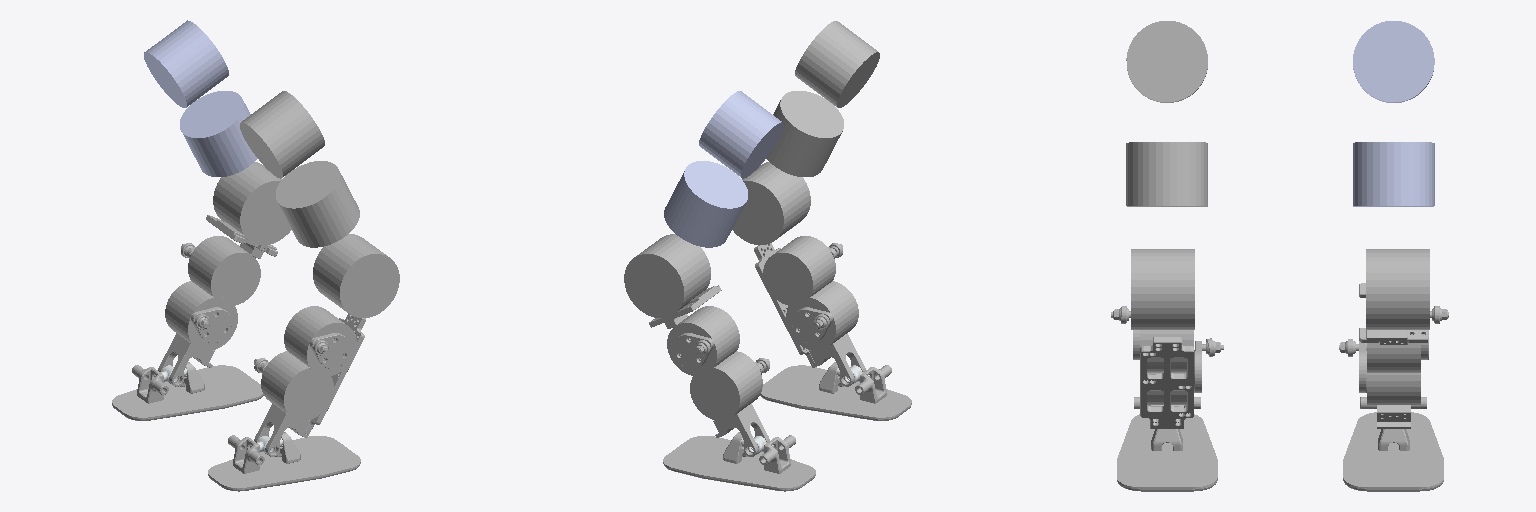
robot.urdf — hi_12dof_250108_4:
<?xml version="1.0" encoding="utf-8"?>
<!-- This URDF was automatically created by SolidWorks to URDF Exporter! Originally created by [author] ([email redacted]) 
     Commit Version: 1.6.0-4-g7f85cfe  Build Version: 1.6.7995.38578
     For more information, please see http://wiki.ros.org/sw_urdf_exporter -->
<robot name="hi_12dof_250108_4">
  <mujoco>
		<compiler meshdir="package://hi_12dof_250108_4/meshes/" balanceinertia="true" discardvisual="false" />
	</mujoco>
  <link name="base_link">
    <inertial>
      <origin xyz="-0.000396294940036325 0.00072167777466269 0.0259267147144543" rpy="0 0 0" />
      <mass value="3.44488468561069" />
      <inertia ixx="0.00350552408207438" ixy="2.05960321176568E-06" ixz="2.70272861151567E-06" iyy="0.0021759508141979" iyz="-7.08948842430887E-07" izz="0.00327349909695201" />
    </inertial>
    <visual>
      <origin xyz="0 0 0" rpy="0 0 0" />
      <geometry>
        <mesh filename="package://hi_12dof_250108_4/meshes/base_link.STL" />
      </geometry>
      <material name="">
        <color rgba="0.792156862745098 0.819607843137255 0.933333333333333 1" />
      </material>
    </visual>
    <collision>
      <origin xyz="0 0 0" rpy="0 0 0" />
      <geometry>
        <mesh filename="package://hi_12dof_250108_4/meshes/base_link.STL" />
      </geometry>
    </collision>
  </link>
  <link name="l_hip_pitch_link">
    <inertial>
      <origin xyz="-0.00211707609765584 0.0379208443965739 -2.34648317470887E-07" rpy="0 0 0" />
      <mass value="0.332464399423281" />
      <inertia ixx="0.00021656124124781" ixy="1.96809453863197E-09" ixz="7.0063109491016E-11" iyy="0.000174778048421951" iyz="-2.59733455543991E-09" izz="0.000174896056211152" />
    </inertial>
    <visual>
      <origin xyz="0 0 0" rpy="0 0 0" />
      <geometry>
        <mesh filename="package://hi_12dof_250108_4/meshes/l_hip_pitch_link.STL" />
      </geometry>
      <material name="">
        <color rgba="0.792156862745098 0.819607843137255 0.933333333333333 1" />
      </material>
    </visual>
    <collision>
      <origin xyz="0 0 0" rpy="0 0 0" />
      <geometry>
        <mesh filename="package://hi_12dof_250108_4/meshes/l_hip_pitch_link.STL" />
      </geometry>
    </collision>
  </link>
  <joint name="l_hip_pitch_joint" type="revolute">
    <origin xyz="0 0.0575 -0.141" rpy="0 -0.45 0" />
    <parent link="base_link" />
    <child link="l_hip_pitch_link" />
    <axis xyz="0 1 0" />
    <limit lower="-3" upper="3" effort="21" velocity="4" />
  </joint>
  <link name="l_hip_roll_link">
    <inertial>
      <origin xyz="-0.0277896329749871 1.55799144418989E-09 -0.0625867046028161" rpy="0 0 0" />
      <mass value="0.45372685123116" />
      <inertia ixx="0.000310242329755238" ixy="-1.63339400965531E-11" ixz="-1.85567882829277E-06" iyy="0.000281938258568152" iyz="-3.58056546016109E-11" izz="0.00022487154980978" />
    </inertial>
    <visual>
      <origin xyz="0 0 0" rpy="0 0 0" />
      <geometry>
        <mesh filename="package://hi_12dof_250108_4/meshes/l_hip_roll_link.STL" />
      </geometry>
      <material name="">
        <color rgba="0.792156862745098 0.819607843137255 0.933333333333333 1" />
      </material>
    </visual>
    <collision>
      <origin xyz="0 0 0" rpy="0 0 0" />
      <geometry>
        <mesh filename="package://hi_12dof_250108_4/meshes/l_hip_roll_link.STL" />
      </geometry>
    </collision>
  </link>
  <joint name="l_hip_roll_joint" type="revolute">
    <origin xyz="0.02875 0.042 0" rpy="0 0 0" />
    <parent link="l_hip_pitch_link" />
    <child link="l_hip_roll_link" />
    <axis xyz="1 0 0" />
    <limit lower="-3" upper="3" effort="21" velocity="4" />
  </joint>
  <link name="l_thigh_link">
    <inertial>
      <origin xyz="-2.47119438421487E-08 -0.00195775191362317 -0.0384354110884601" rpy="0 0 0" />
      <mass value="0.216480798098479" />
      <inertia ixx="0.000126086396930698" ixy="2.19767433569625E-12" ixz="-2.48244612072097E-10" iyy="0.000152534480065572" iyz="-1.11920718948652E-06" izz="6.72242935494028E-05" />
    </inertial>
    <visual>
      <origin xyz="0 0 0" rpy="0 0 0" />
      <geometry>
        <box size="0.0001 0.0001 0.0001" />
        <!-- <mesh filename="package://hi_12dof_250108_4/meshes/l_thigh_link.STL" /> -->
      </geometry>
      <material name="">
        <color rgba="0.752941176470588 0.752941176470588 0.752941176470588 1" />
      </material>
    </visual>
    <collision>
      <origin xyz="0 0 0" rpy="0 0 0" />
      <geometry>
        <box size="0.0001 0.0001 0.0001" />
        <!-- <mesh filename="package://hi_12dof_250108_4/meshes/l_thigh_link.STL" /> -->
      </geometry>
    </collision>
  </link>
  <joint name="l_thigh_joint" type="revolute">
    <origin xyz="-0.02875 0 -0.127" rpy="0 0 0" />
    <parent link="l_hip_roll_link" />
    <child link="l_thigh_link" />
    <axis xyz="0 0 1" />
    <limit lower="-3" upper="3" effort="21" velocity="4" />
  </joint>
  <link name="l_calf_link">
    <inertial>
      <origin xyz="0.002084208593299 -0.000708512792595609 -0.0666364858990925" rpy="0 0 0" />
      <mass value="0.798186590427918" />
      <inertia ixx="0.000394052774047747" ixy="-1.94635963229571E-07" ixz="5.09736810284007E-07" iyy="0.000436355973055267" iyz="-2.05470524117594E-06" izz="0.00032700401941796" />
    </inertial>
    <visual>
      <origin xyz="0 0 0" rpy="0 0 0" />
      <geometry>
        <mesh filename="package://hi_12dof_250108_4/meshes/l_calf_link.STL" />
      </geometry>
      <material name="">
        <color rgba="0.752941176470588 0.752941176470588 0.752941176470588 1" />
      </material>
    </visual>
    <collision>
      <origin xyz="0 0 0" rpy="0 0 0" />
      <geometry>
        <mesh filename="package://hi_12dof_250108_4/meshes/l_calf_link.STL" />
      </geometry>
    </collision>
  </link>
  <joint name="l_calf_joint" type="revolute">
    <origin xyz="0 0 -0.073" rpy="0 1. 0" />
    <parent link="l_thigh_link" />
    <child link="l_calf_link" />
    <axis xyz="0 1 0" />
    <limit lower="-3" upper="3" effort="21" velocity="4" />
  </joint>
  <link name="l_ankle_pitch_link">
    <inertial>
      <origin xyz="-9.12850747509381E-09 4.12927667059471E-09 4.39383196493282E-10" rpy="0 0 0" />
      <mass value="0.00892294107261778" />
      <inertia ixx="2.27074369978684E-07" ixy="5.24991382186059E-15" ixz="-9.53624130649719E-17" iyy="1.02185448397035E-06" iyz="1.9785933442948E-13" izz="9.9089537138096E-07" />
    </inertial>
    <visual>
      <origin xyz="0 0 0" rpy="0 0 0" />
      <geometry>
        <mesh filename="package://hi_12dof_250108_4/meshes/l_ankle_pitch_link.STL" />
      </geometry>
      <material name="">
        <color rgba="0.898039215686275 0.917647058823529 0.929411764705882 1" />
      </material>
    </visual>
    <collision>
      <origin xyz="0 0 0" rpy="0 0 0" />
      <geometry>
        <mesh filename="package://hi_12dof_250108_4/meshes/l_ankle_pitch_link.STL" />
      </geometry>
    </collision>
  </link>
  <joint name="l_ankle_pitch_joint" type="revolute">
    <origin xyz="0 0 -0.199999997760877" rpy="0 -0.55 0" />
    <parent link="l_calf_link" />
    <child link="l_ankle_pitch_link" />
    <axis xyz="0 1 0" />
    <limit lower="-3" upper="3" effort="21" velocity="4" />
  </joint>
  <link name="l_ankle_roll_link">
    <inertial>
      <origin xyz="0.0191469462734272 1.24410964637278E-06 -0.0235556687001754" rpy="0 0 0" />
      <mass value="0.408124172744667" />
      <inertia ixx="0.000214914616175803" ixy="1.40187762223554E-08" ixz="6.61054413733577E-08" iyy="0.000655689977785892" iyz="-1.31856124182802E-09" izz="0.000862874352432036" />
    </inertial>
    <visual>
      <origin xyz="0 0 0" rpy="0 0 0" />
      <geometry>
        <mesh filename="package://hi_12dof_250108_4/meshes/l_ankle_roll_link.STL" />
      </geometry>
      <material name="">
        <color rgba="0.752941176470588 0.752941176470588 0.752941176470588 1" />
      </material>
    </visual>
    <collision>
      <origin xyz="0 0 0" rpy="0 0 0" />
      <geometry>
        <mesh filename="package://hi_12dof_250108_4/meshes/l_ankle_roll_link.STL" />
      </geometry>
    </collision>
  </link>
  <joint name="l_ankle_roll_joint" type="revolute">
    <origin xyz="0 0 0" rpy="0 0 0" />
    <parent link="l_ankle_pitch_link" />
    <child link="l_ankle_roll_link" />
    <axis xyz="1 0 0" />
    <limit lower="-3" upper="3" effort="21" velocity="4" />
  </joint>
  <link name="r_hip_pitch_link">
    <inertial>
      <origin xyz="-0.00211707607184689 -0.0379180481609783 2.34669631504758E-07" rpy="0 0 0" />
      <mass value="0.332464399123945" />
      <inertia ixx="0.000216561240983143" ixy="-1.96809813185383E-09" ixz="-7.0068934838985E-11" iyy="0.000174778048243936" iyz="-2.59745901504191E-09" izz="0.000174896056124753" />
    </inertial>
    <visual>
      <origin xyz="0 0 0" rpy="0 0 0" />
      <geometry>
        <mesh filename="package://hi_12dof_250108_4/meshes/r_hip_pitch_link.STL" />
      </geometry>
      <material name="">
        <color rgba="0.752941176470588 0.752941176470588 0.752941176470588 1" />
      </material>
    </visual>
    <collision>
      <origin xyz="0 0 0" rpy="0 0 0" />
      <geometry>
        <mesh filename="package://hi_12dof_250108_4/meshes/r_hip_pitch_link.STL" />
      </geometry>
    </collision>
  </link>
  <joint name="r_hip_pitch_joint" type="revolute">
    <origin xyz="0 -0.0575 -0.141" rpy="0 -0.45 0" />
    <parent link="base_link" />
    <child link="r_hip_pitch_link" />
    <axis xyz="0 1 0" />
    <limit lower="-3" upper="3" effort="21" velocity="4" />
  </joint>
  <link name="r_hip_roll_link">
    <inertial>
      <origin xyz="-0.0277896329807857 -3.15155031359315E-06 -0.0625867046028169" rpy="0 0 0" />
      <mass value="0.453726851231109" />
      <inertia ixx="0.000310242329755245" ixy="-1.63339373450913E-11" ixz="-1.85567902517169E-06" iyy="0.000281938258568134" iyz="-3.58056712023289E-11" izz="0.000224871549809768" />
    </inertial>
    <visual>
      <origin xyz="0 0 0" rpy="0 0 0" />
      <geometry>
        <mesh filename="package://hi_12dof_250108_4/meshes/r_hip_roll_link.STL" />
      </geometry>
      <material name="">
        <color rgba="0.752941176470588 0.752941176470588 0.752941176470588 1" />
      </material>
    </visual>
    <collision>
      <origin xyz="0 0 0" rpy="0 0 0" />
      <geometry>
        <mesh filename="package://hi_12dof_250108_4/meshes/r_hip_roll_link.STL" />
      </geometry>
    </collision>
  </link>
  <joint name="r_hip_roll_joint" type="revolute">
    <origin xyz="0.0287500000000003 -0.0419959226882039 0" rpy="0 0 0" />
    <parent link="r_hip_pitch_link" />
    <child link="r_hip_roll_link" />
    <axis xyz="1 0 0" />
    <limit lower="-3" upper="3" effort="21" velocity="4" />
  </joint>
  <link name="r_thigh_link">
    <inertial>
      <origin xyz="2.47055361255605E-08 0.00195775191229149 -0.0384354110884844" rpy="0 0 0" />
      <mass value="0.216480798098292" />
      <inertia ixx="0.000126086396929227" ixy="2.19712782016265E-12" ixz="2.48224108944989E-10" iyy="0.000152534480062678" iyz="1.11920718849412E-06" izz="6.72242935479536E-05" />
    </inertial>
    <visual>
      <origin xyz="0 0 0" rpy="0 0 0" />
      <geometry>
        <box size="0.0001 0.0001 0.0001" />
        <!-- <mesh filename="package://hi_12dof_250108_4/meshes/r_thigh_link.STL" /> -->
      </geometry>
      <material name="">
        <color rgba="0.752941176470588 0.752941176470588 0.752941176470588 1" />
      </material>
    </visual>
    <collision>
      <origin xyz="0 0 0" rpy="0 0 0" />
      <geometry>
        <box size="0.0001 0.0001 0.0001" />
        <!-- <mesh filename="package://hi_12dof_250108_4/meshes/r_thigh_link.STL" /> -->
      </geometry>
    </collision>
  </link>
  <joint name="r_thigh_joint" type="revolute">
    <origin xyz="-0.02875 0 -0.127" rpy="0 0 0" />
    <parent link="r_hip_roll_link" />
    <child link="r_thigh_link" />
    <axis xyz="0 0 1" />
    <limit lower="-3" upper="3" effort="21" velocity="4" />
  </joint>
  <link name="r_calf_link">
    <inertial>
      <origin xyz="0.00210372630508033 0.000710487724927336 -0.0659600577317307" rpy="0 0 0" />
      <mass value="0.793906144344769" />
      <inertia ixx="0.000393935939110766" ixy="1.99394924160626E-07" ixz="5.05613076796903E-07" iyy="0.000436084295683318" iyz="2.09123775120312E-06" izz="0.000326763362646964" />
    </inertial>
    <visual>
      <origin xyz="0 0 0" rpy="0 0 0" />
      <geometry>
        <mesh filename="package://hi_12dof_250108_4/meshes/r_calf_link.STL" />
      </geometry>
      <material name="">
        <color rgba="0.752941176470588 0.752941176470588 0.752941176470588 1" />
      </material>
    </visual>
    <collision>
      <origin xyz="0 0 0" rpy="0 0 0" />
      <geometry>
        <mesh filename="package://hi_12dof_250108_4/meshes/r_calf_link.STL" />
      </geometry>
    </collision>
  </link>
  <joint name="r_calf_joint" type="revolute">
    <origin xyz="0 0 -0.073" rpy="0 1. 0" />
    <parent link="r_thigh_link" />
    <child link="r_calf_link" />
    <axis xyz="0 1 0" />
    <limit lower="-3" upper="3" effort="21" velocity="4" />
  </joint>
  <link name="r_ankle_pitch_link">
    <inertial>
      <origin xyz="-9.05278286144826E-09 4.04218516991683E-09 3.56552787295072E-10" rpy="0 0 0" />
      <mass value="0.00892294108304132" />
      <inertia ixx="2.27074368041127E-07" ixy="-5.08822689649353E-16" ixz="2.07419849015164E-15" iyy="1.02185448697766E-06" iyz="1.95424409829807E-13" izz="9.90895385587073E-07" />
    </inertial>
    <visual>
      <origin xyz="0 0 0" rpy="0 0 0" />
      <geometry>
        <mesh filename="package://hi_12dof_250108_4/meshes/r_ankle_pitch_link.STL" />
      </geometry>
      <material name="">
        <color rgba="0.898039215686275 0.917647058823529 0.929411764705882 1" />
      </material>
    </visual>
    <collision>
      <origin xyz="0 0 0" rpy="0 0 0" />
      <geometry>
        <mesh filename="package://hi_12dof_250108_4/meshes/r_ankle_pitch_link.STL" />
      </geometry>
    </collision>
  </link>
  <joint name="r_ankle_pitch_joint" type="revolute">
    <origin xyz="0 0 -0.2" rpy="0 -0.55 0" />
    <parent link="r_calf_link" />
    <child link="r_ankle_pitch_link" />
    <axis xyz="0 1 0" />
    <limit lower="-3" upper="3" effort="21" velocity="4" />
  </joint>
  <link name="r_ankle_roll_link">
    <inertial>
      <origin xyz="0.019146946273425 1.24410964062738E-06 -0.0235556687001899" rpy="0 0 0" />
      <mass value="0.408124172744668" />
      <inertia ixx="0.000214914616175802" ixy="1.40187762252316E-08" ixz="6.61054413754024E-08" iyy="0.000655689977785891" iyz="-1.31856124238544E-09" izz="0.000862874352432036" />
    </inertial>
    <visual>
      <origin xyz="0 0 0" rpy="0 0 0" />
      <geometry>
        <mesh filename="package://hi_12dof_250108_4/meshes/r_ankle_roll_link.STL" />
      </geometry>
      <material name="">
        <color rgba="0.752941176470588 0.752941176470588 0.752941176470588 1" />
      </material>
    </visual>
    <collision>
      <origin xyz="0 0 0" rpy="0 0 0" />
      <geometry>
        <mesh filename="package://hi_12dof_250108_4/meshes/r_ankle_roll_link.STL" />
      </geometry>
    </collision>
  </link>
  <joint name="r_ankle_roll_joint" type="revolute">
    <origin xyz="0 0 0" rpy="0 0 0" />
    <parent link="r_ankle_pitch_link" />
    <child link="r_ankle_roll_link" />
    <axis xyz="1 0 0" />
    <limit lower="-3" upper="3" effort="21" velocity="4" />
  </joint>
</robot>

--- Facts derived from the render (not from the file) ---
The picture shows the robot from 3 angles, left to right: view 1: azimuth 30°, elevation 25°; view 2: azimuth 150°, elevation 25°; view 3: azimuth 270°, elevation 25°; orthographic projection.
Robot: hi_12dof_250108_4 — 13 links, 12 joints (12 revolute); root link base_link; default pose: every joint at zero.
Visible links, largest first — view 1: r_calf_link, l_calf_link, r_ankle_roll_link, l_ankle_roll_link, r_hip_roll_link, l_hip_roll_link, r_hip_pitch_link, l_hip_pitch_link; view 2: l_calf_link, r_calf_link, l_ankle_roll_link, r_ankle_roll_link, l_hip_roll_link, r_hip_roll_link, r_hip_pitch_link, l_hip_pitch_link; view 3: r_calf_link, l_calf_link, l_ankle_roll_link, r_ankle_roll_link, l_hip_roll_link, r_hip_roll_link, l_hip_pitch_link, r_hip_pitch_link.
Boxes of the visible links, box(x1,y1,x2,y2) form: r_calf_link: box(254, 234, 399, 456); l_calf_link: box(158, 162, 291, 386); r_ankle_roll_link: box(208, 432, 360, 491); l_ankle_roll_link: box(112, 362, 263, 420); r_hip_roll_link: box(276, 161, 359, 247); l_hip_roll_link: box(180, 91, 257, 176); r_hip_pitch_link: box(240, 91, 324, 178); l_hip_pitch_link: box(144, 20, 228, 107); l_calf_link: box(624, 234, 769, 456); r_calf_link: box(732, 162, 865, 386); l_ankle_roll_link: box(663, 432, 815, 491); r_ankle_roll_link: box(760, 362, 911, 420); l_hip_roll_link: box(664, 161, 747, 247); r_hip_roll_link: box(766, 91, 843, 176); r_hip_pitch_link: box(795, 21, 879, 107); l_hip_pitch_link: box(699, 91, 783, 178); r_calf_link: box(1111, 249, 1223, 428); l_calf_link: box(1339, 249, 1448, 428); l_ankle_roll_link: box(1343, 397, 1443, 491); r_ankle_roll_link: box(1117, 397, 1217, 491); l_hip_roll_link: box(1353, 142, 1434, 206); r_hip_roll_link: box(1126, 142, 1207, 206); l_hip_pitch_link: box(1353, 21, 1434, 102); r_hip_pitch_link: box(1126, 21, 1207, 102).
Size in the robot's own frame: 0.2021 by 0.2971 by 0.426 metres.
Meshes: 11 distinct files referenced, 10 mesh visuals loaded (10 binary STL); not drawn: 1 (reference not matched to a file when rendering).